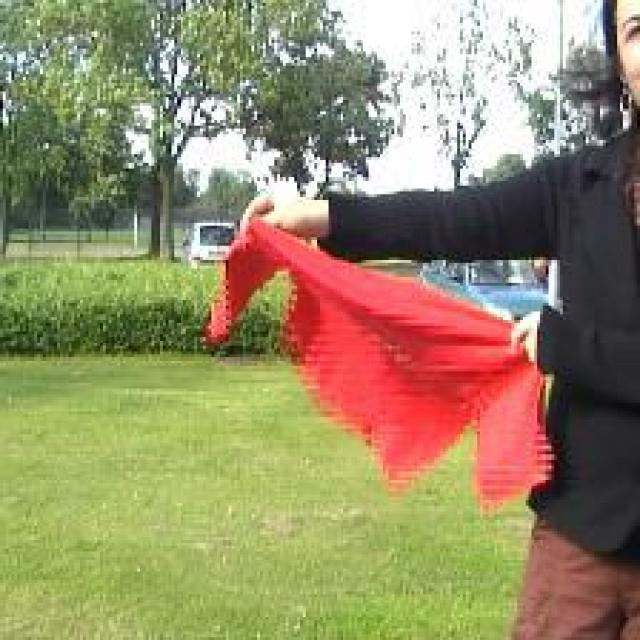other: (188, 196, 576, 536)
